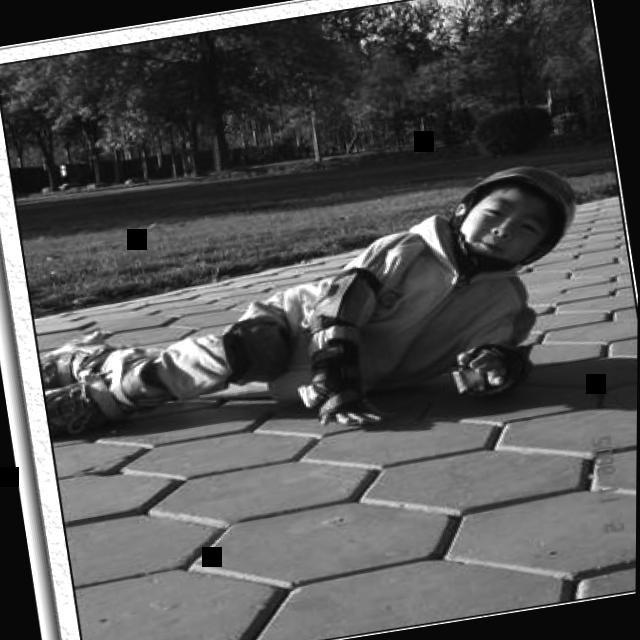Fall-Detected: (33, 147, 586, 466)
